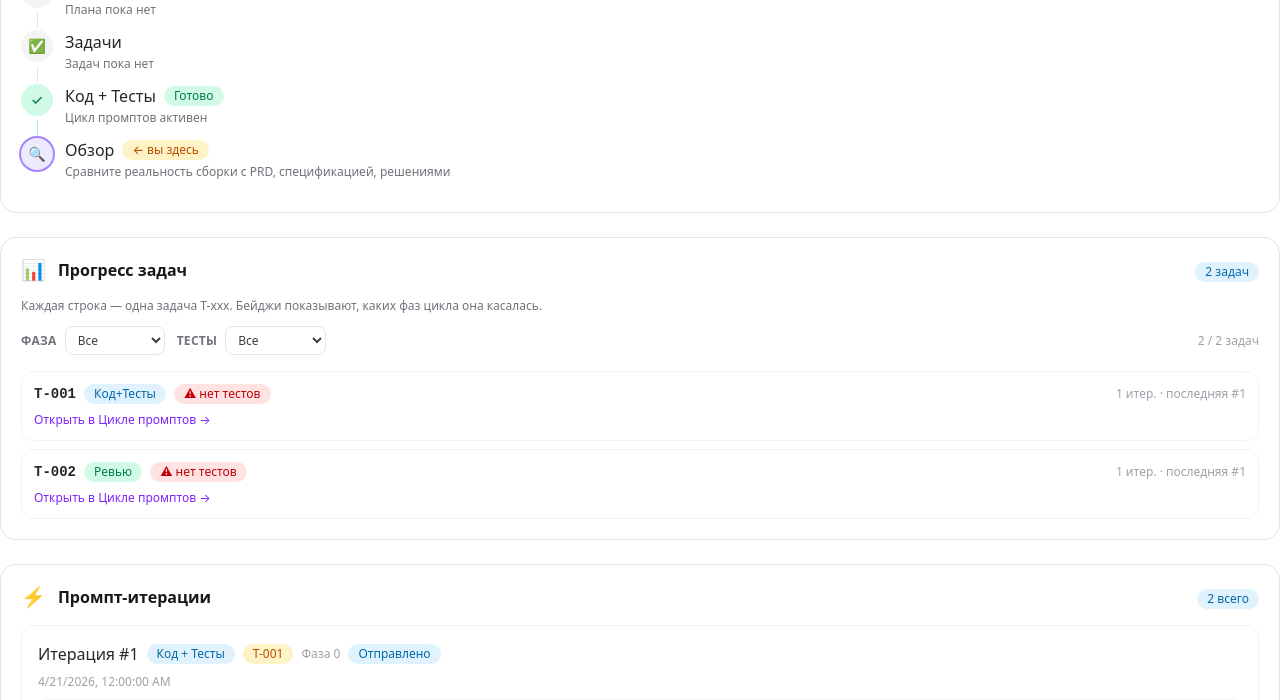
Test case: B. TaskProgressPanel — filter interactivity › selecting "review" phase filter shows only tasks that visited review
(page scrolled)
Step 1. Select "Ревью" in the 1st dropdown → (115, 340), box [65, 326, 165, 355]
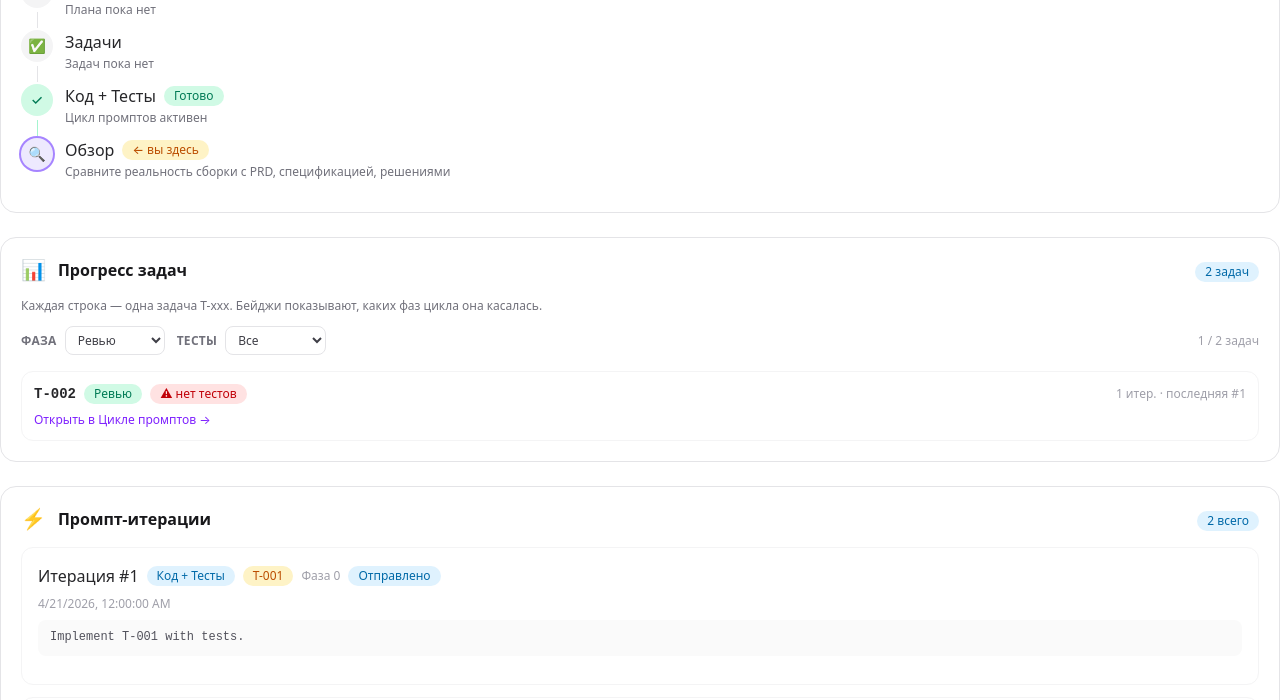
Now the text "1 / 2 задач" is shown, box [1198, 332, 1259, 348]
